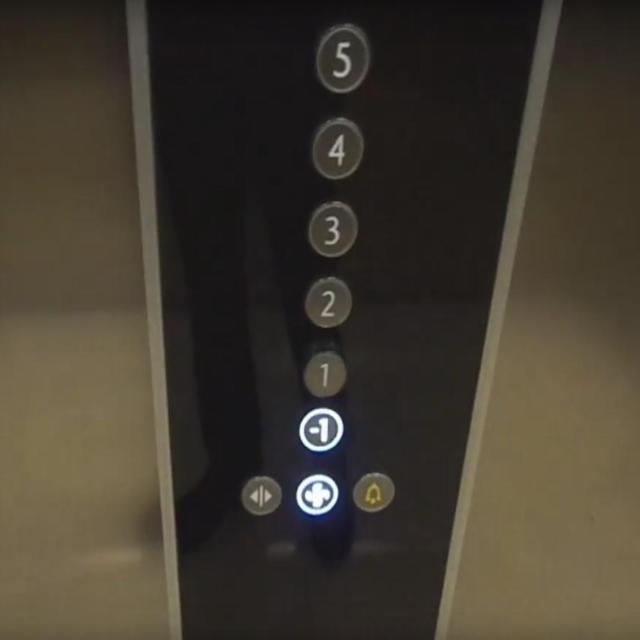-1: (297, 405, 342, 454)
1: (301, 348, 346, 398)
2: (301, 273, 353, 329)
3: (307, 197, 358, 258)
4: (311, 113, 364, 181)
5: (312, 22, 371, 92)
alarm: (350, 469, 396, 514)
fan: (294, 472, 339, 517)
open: (240, 473, 284, 517)
